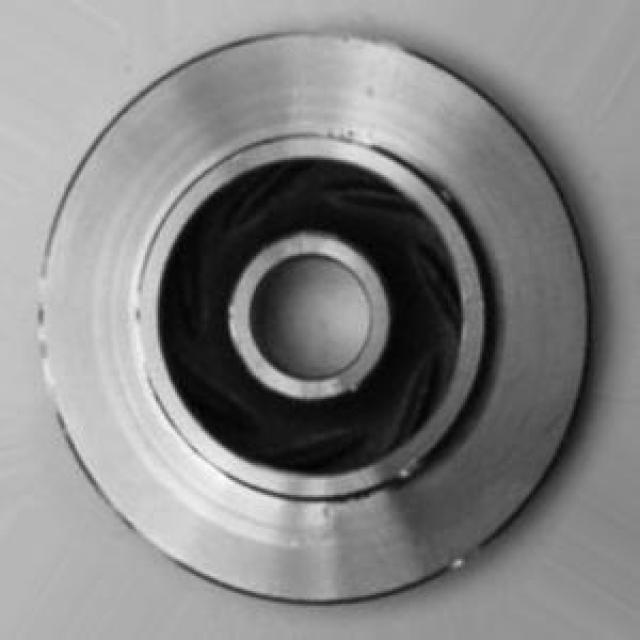Defect: (392, 451, 426, 484)
